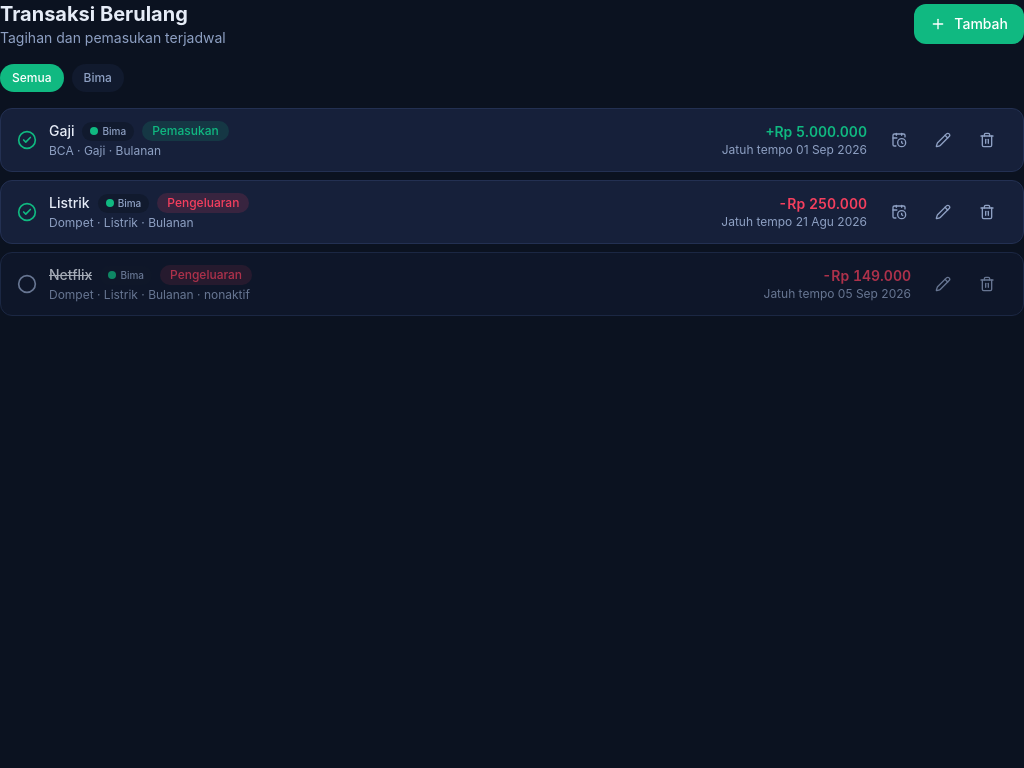
RecurringPage › updates an existing recurring transaction through the form
Expected: the text "Listrik" is shown, [49,193,90,213]
Click the button named "Ubah" next to "Rp 250.000".
click(943, 212)  # box [923,198,963,226]
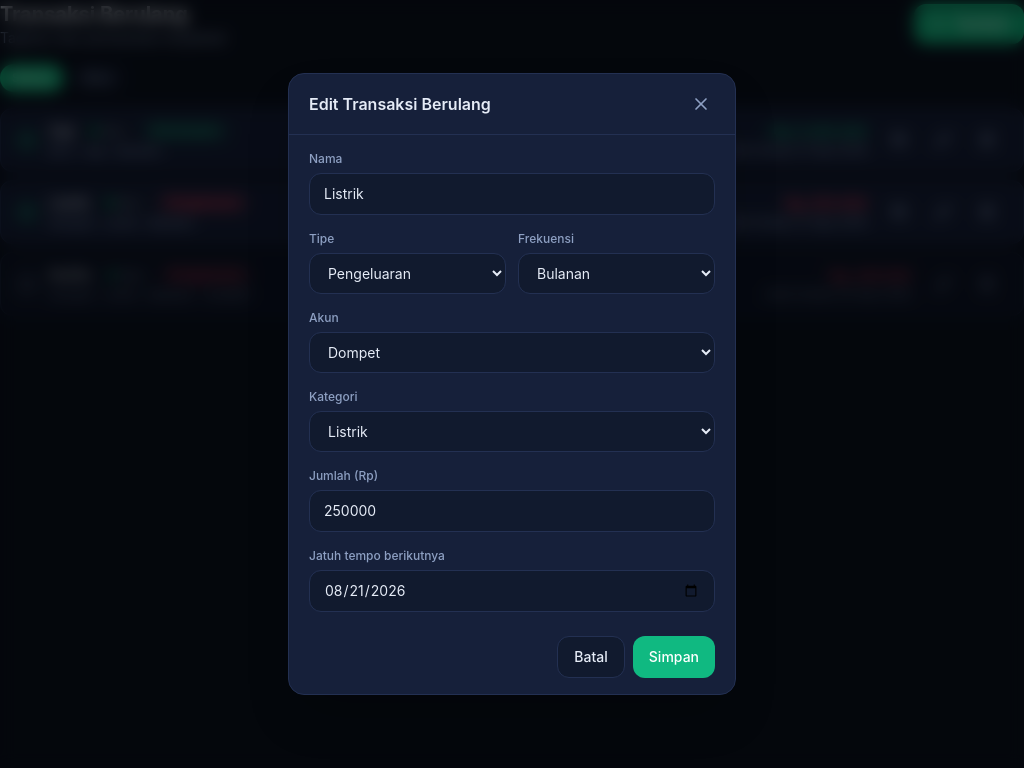
Replace the text in the field labelled "Nama" with "Listrik PLN" at (512, 194), box [309,173,715,215]
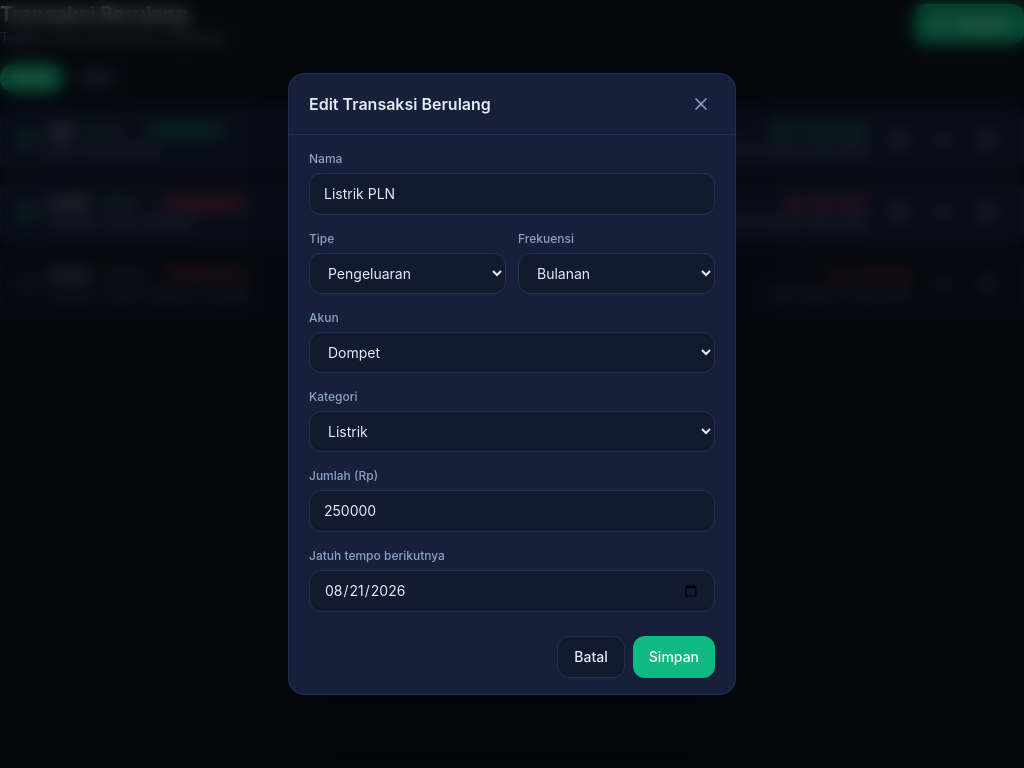
Submit the form, box [309,151,715,678]
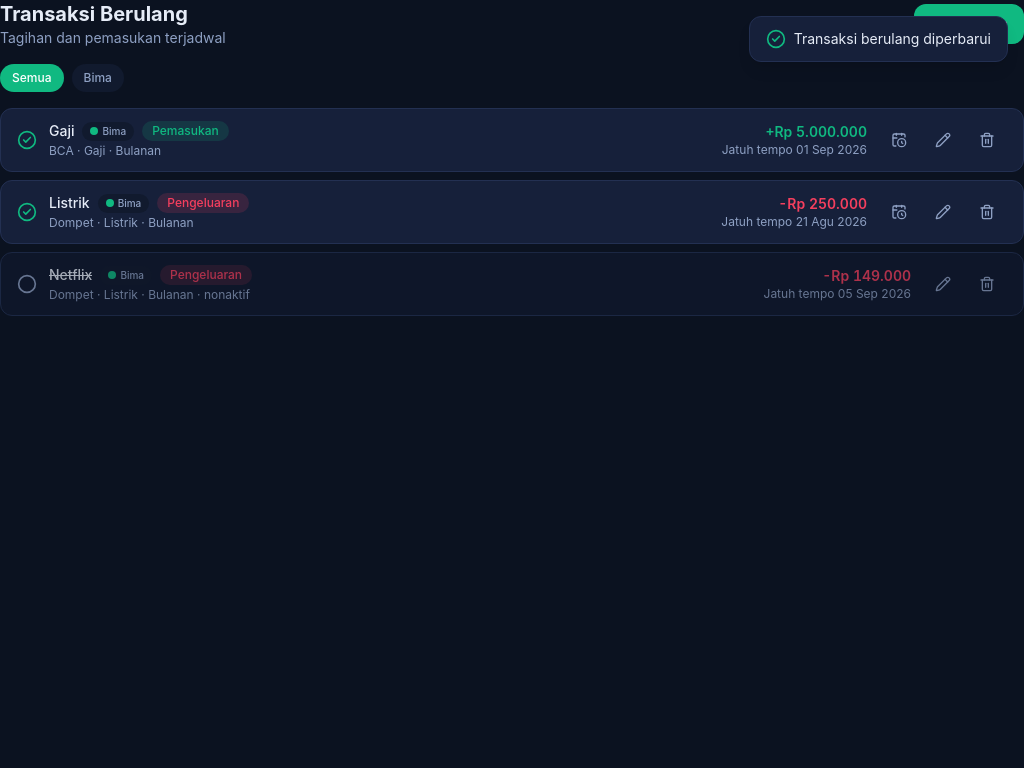
Expected: the text "Transaksi berulang diperbarui" is shown, [794,29,991,49]
